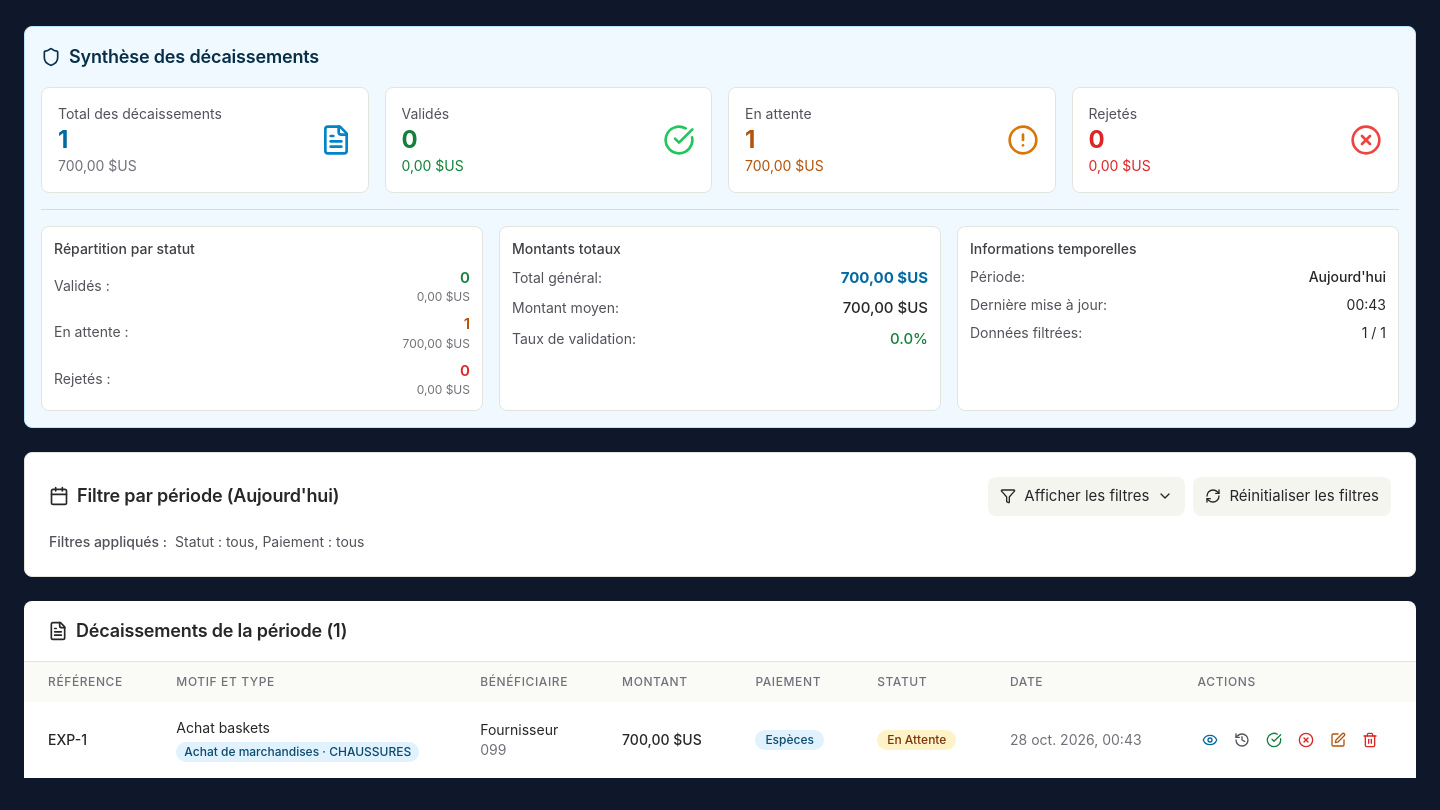
Historique des décaissements: insufficient funds keeps the page usable with a clear message
The image size is (1440, 810).
(page scrolled)
Click the button named "Valider EXP-1": (1274, 740) [1262,728,1286,752]
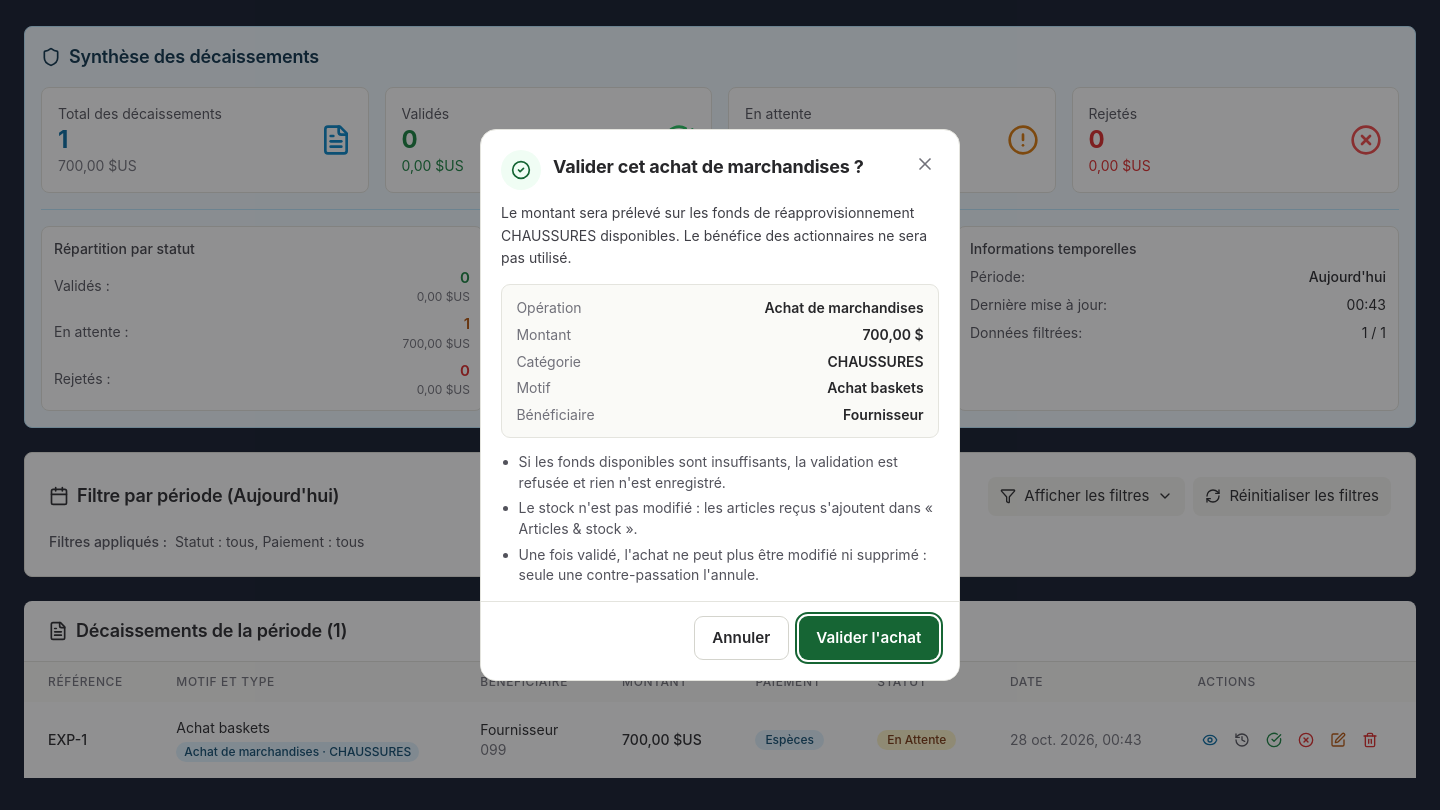
Check: the dialog "Valider cet achat de marchandises ?" shows "Le bénéfice des actionnaires ne sera pas utilisé.", box [501,204,927,266]
Click the button "Valider l'achat": (869, 638) [799,616,939,660]
(page scrolled)
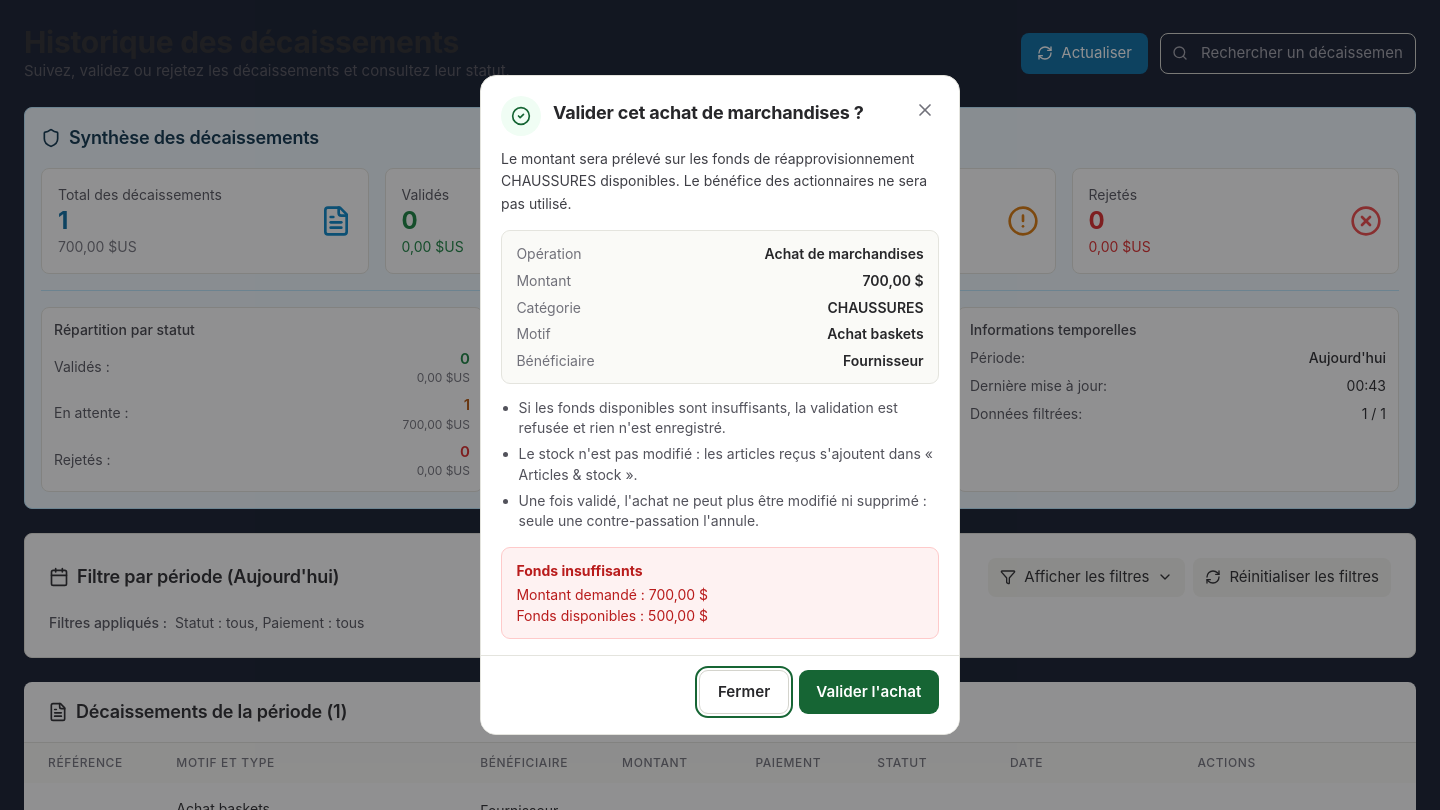
Check: the message shows "Fonds insuffisants", box [516,562,643,579]
Check: the message shows "Montant demandé : 700,00 $", box [516,586,708,624]
Check: the message shows "Fonds disponibles : 500,00 $", box [516,586,708,624]
